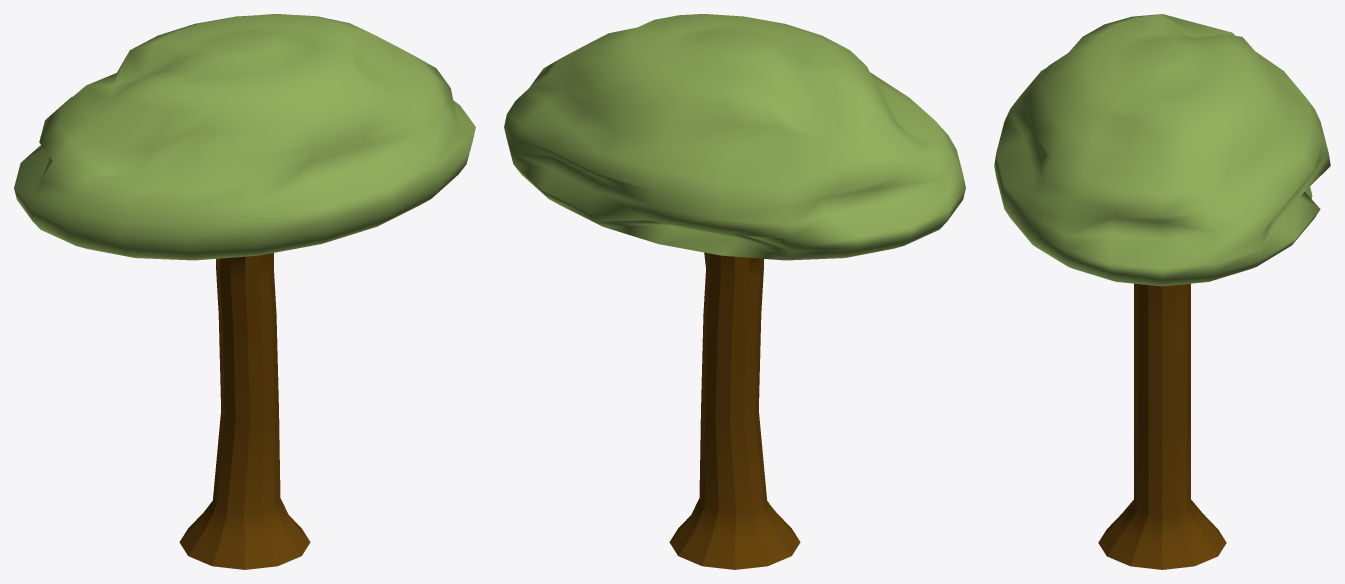
Rendered from tree4.fbx.
3 renders of one model, left to right at view 1: azimuth 30°, elevation 25°; view 2: azimuth 150°, elevation 25°; view 3: azimuth 270°, elevation 25°, orthographic. The views are drawn at different scales.
Visible parts, largest first — view 1: pCylinder4; view 2: pCylinder4; view 3: pCylinder4.
Boxes of the visible parts, bbox=[...] form: pCylinder4: bbox=[14, 14, 475, 569]; pCylinder4: bbox=[504, 14, 965, 569]; pCylinder4: bbox=[994, 14, 1330, 569].
Size of the model in its own units: 37.02 by 40.99 by 25.63.
